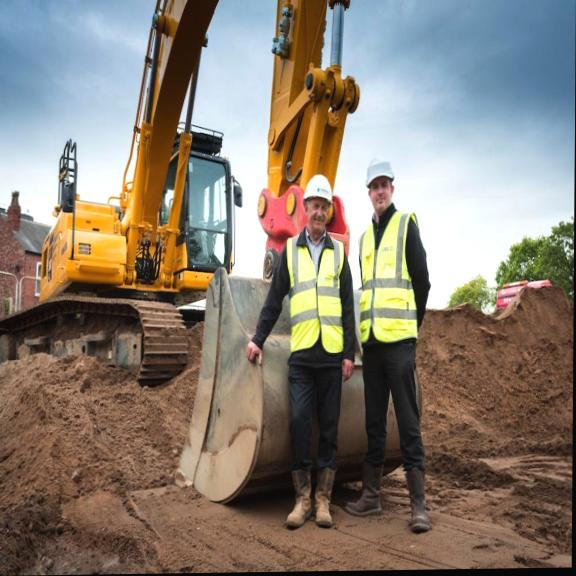safety_vest: (281, 225, 350, 382), (354, 213, 427, 352)
